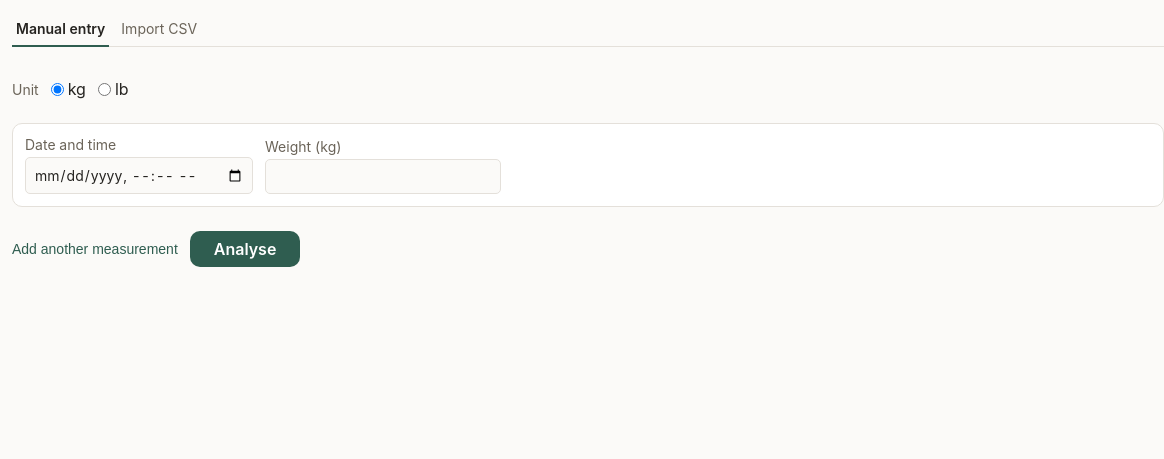
Scenario: AnalysisWorkspace › shows only the estimate and 'Trend not established yet' for a single observation
Type "2026-08-21T07:30" into the field labelled "Date and time".
click(139, 176); type("2026-08-21T07:30")  # box top-left (25, 157), bottom-right (253, 194)
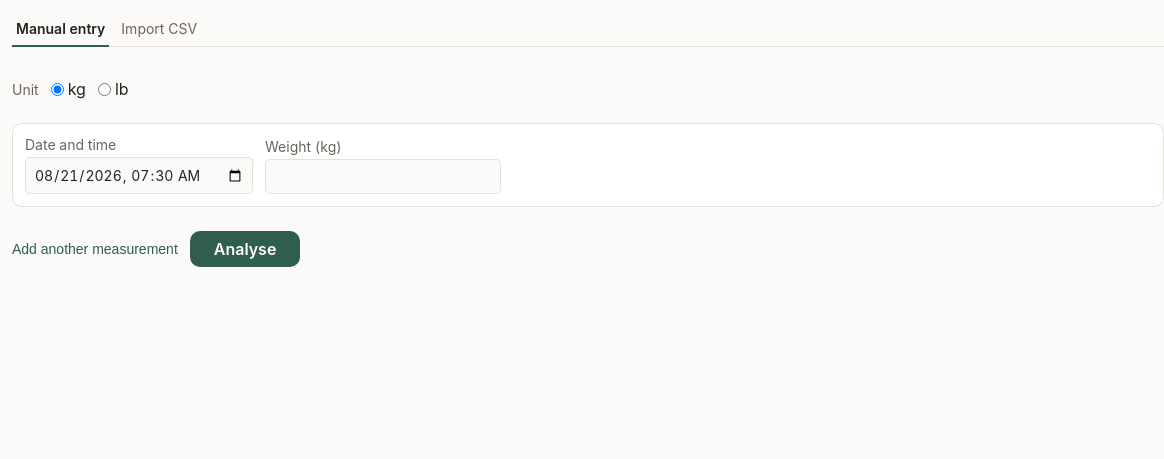
Type "72.4" into the number field labelled "Weight (kg)".
click(383, 176); type("72.4")  # box top-left (265, 159), bottom-right (501, 194)
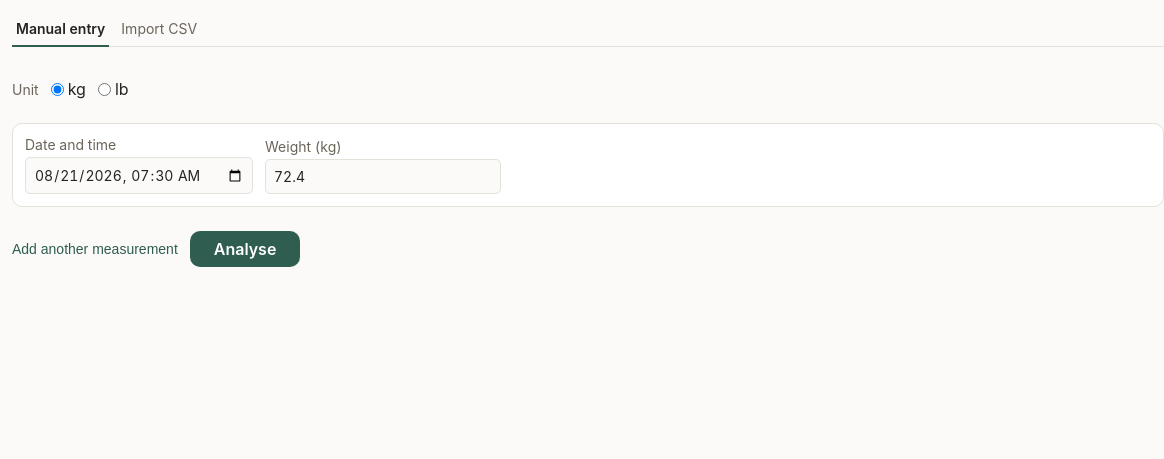
Click the button "Analyse".
click(245, 249)  # box top-left (190, 231), bottom-right (300, 267)
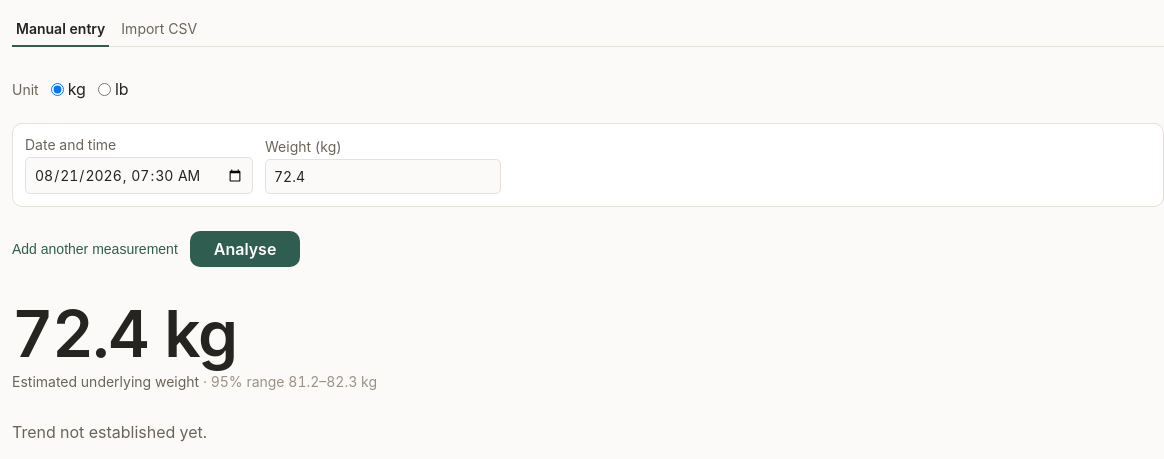
Check: the text "Trend not established yet." is shown, box top-left (12, 422), bottom-right (207, 442)
Check: the text "72.4 kg" is shown, box top-left (12, 295), bottom-right (237, 372)
